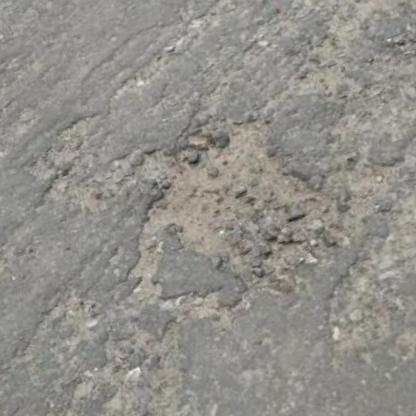pothole: (105, 86, 354, 325)
